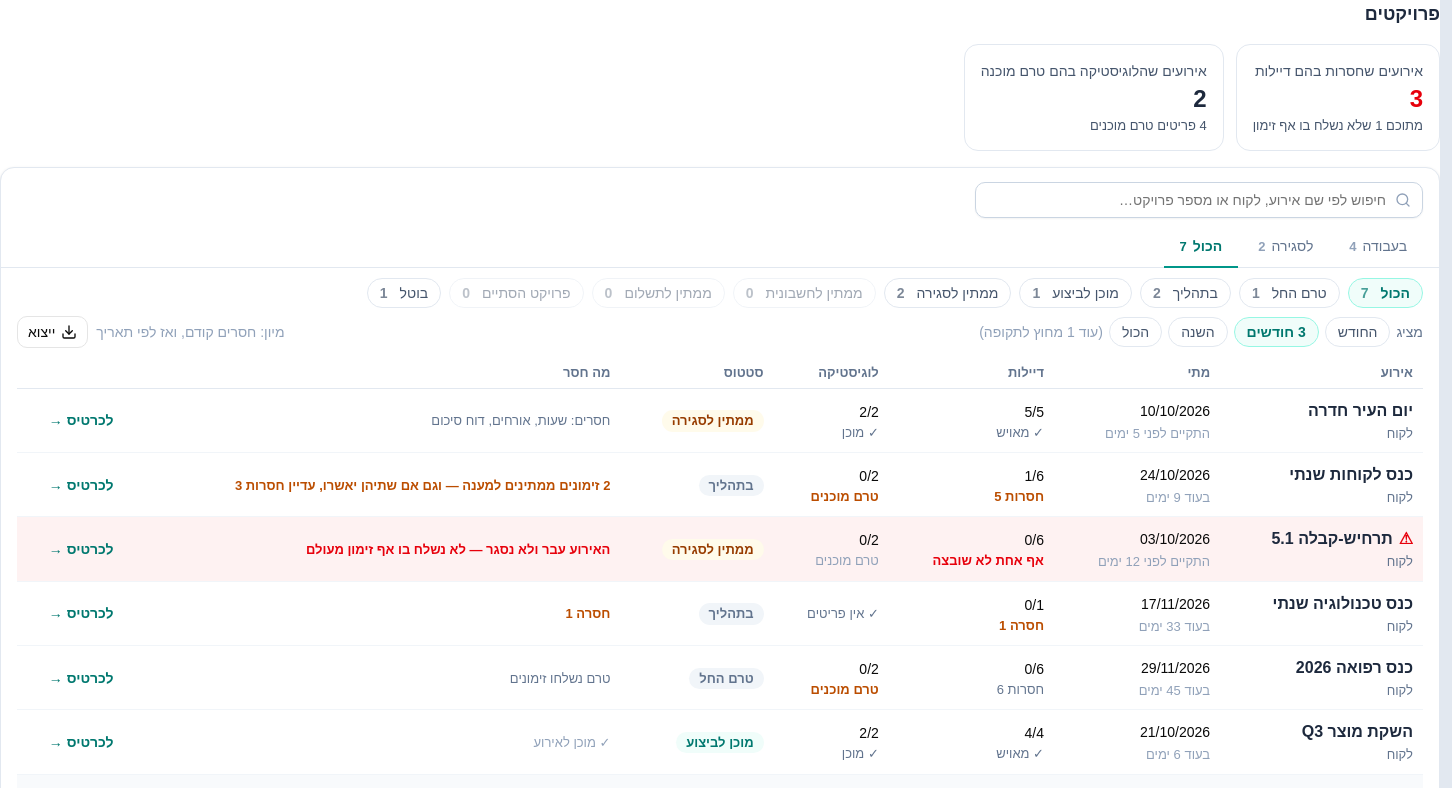
it: ProjectsPage — לשונית "הכול": גלולות ומסנן › 🕐 חלון-ברירת-המחדל (04/09/2026): #104 (לפני 146 ימים) מוסתר; "הכול" (חלון) מציג אותו
Expected: the text with test id "list-window-hidden" shows "עוד 1 מחוץ לתקופה", [979,322,1103,342]
# מעבר ל"הכול" (גלולת-חלון, לא גלולת-סטטוס) מחזיר את #104 ומכבה את רמז-החוסר.
What coordinates should you click on to do the following:
click the button with test id "list-window-all"
I would click on:
 (1136, 332)
Its box is [1109,317,1162,347].
(page scrolled)
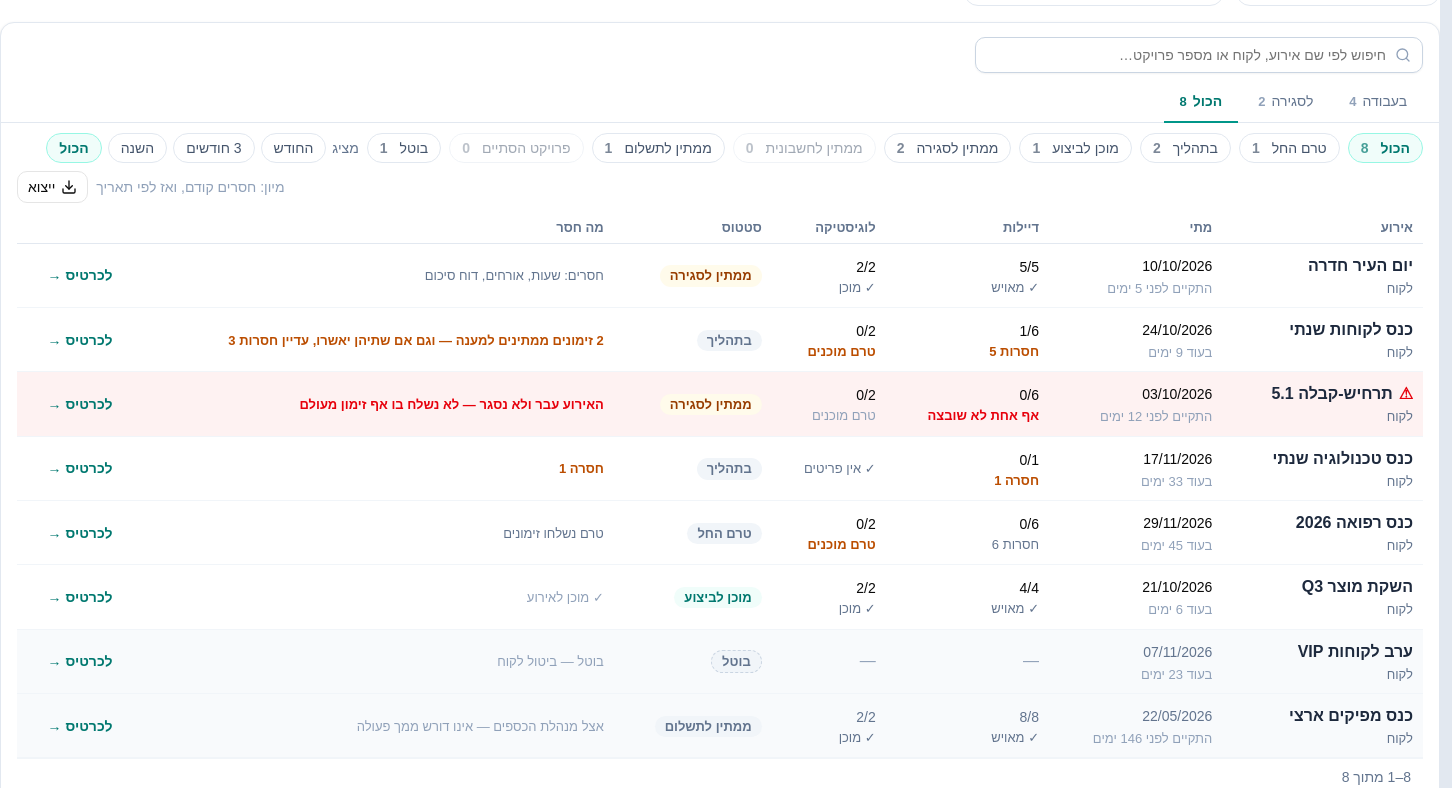
Now the row with test id "projects-row-104" is shown, box [17,694,1423,758]
Now the text with test id "list-window-hidden" is gone
